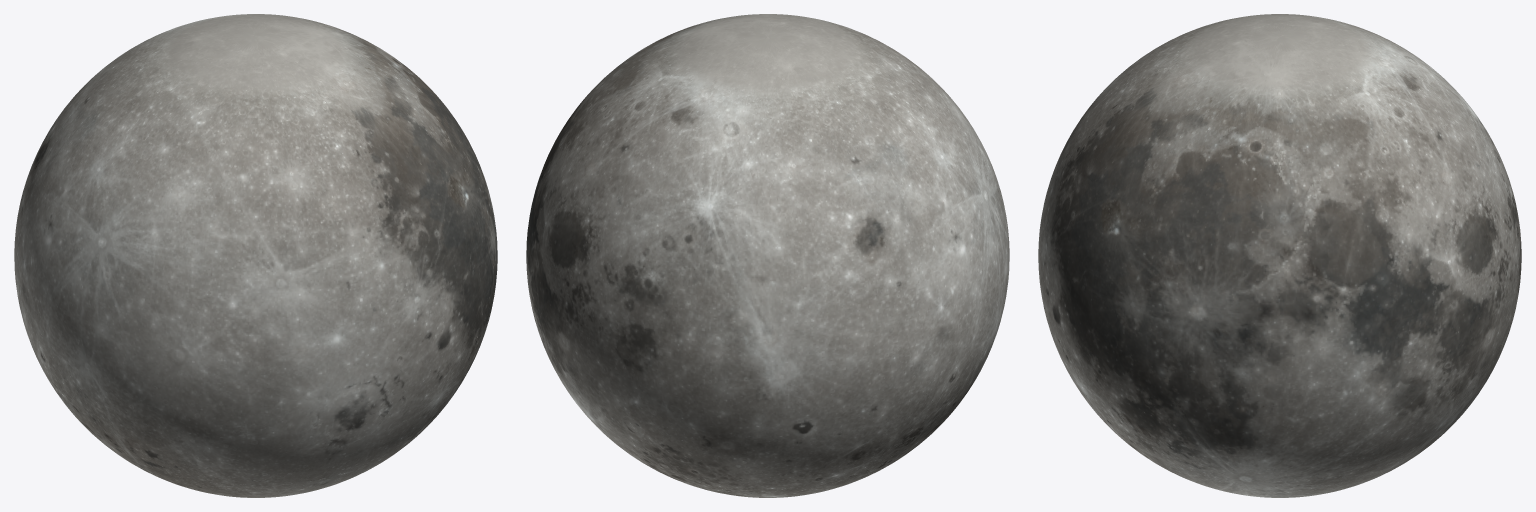
File: Moon.fbx
The picture shows the model from 3 angles, left to right: view 1: azimuth 30°, elevation 25°; view 2: azimuth 150°, elevation 25°; view 3: azimuth 270°, elevation 25°; orthographic projection.
Visible parts, largest first — view 1: Sphere; view 2: Sphere; view 3: Sphere.
Part boxes in pixels (<box>): Sphere: <box>14,14,497,497</box>; Sphere: <box>526,14,1009,497</box>; Sphere: <box>1038,14,1521,497</box>.
Size of the model in its own units: 199 by 200 by 199.
Materials: 1 (1 with a texture image).
